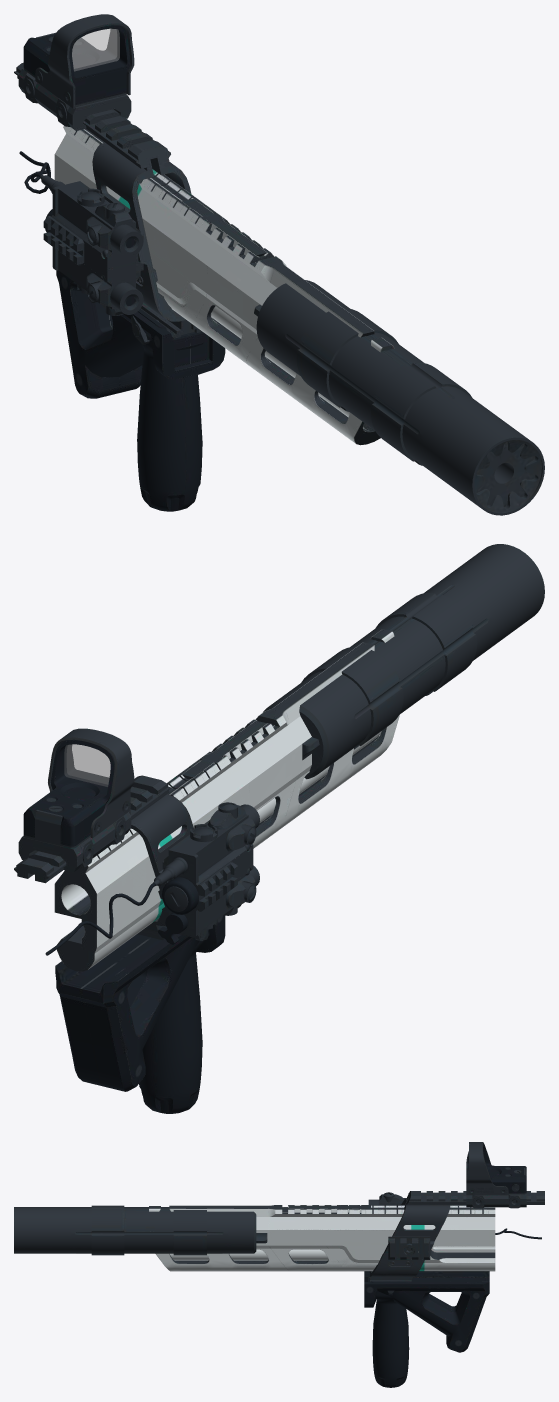
Rendered from Revolver.glb.
3 renders of one model, top to bottom at view 1: azimuth 30°, elevation 25°; view 2: azimuth 150°, elevation 25°; view 3: azimuth 270°, elevation 25°, orthographic. The views are drawn at different scales.
Visible parts, largest first — view 1: SM_Silencer, SM_Revolver_Barrel_Extended, SM_Laser, SM_Scope_Small, SM_Grip_Angled_Short, SM_Grip_Vertical, SM_Revolver_Barrel_Default, SM_Revolver_Rail, SM_Revolver_Barrel_Short; view 2: SM_Silencer, SM_Revolver_Barrel_Extended, SM_Revolver_Barrel_Default, SM_Grip_Angled_Short, SM_Scope_Small, SM_Laser, SM_Grip_Vertical, SM_Revolver_Rail, SM_Revolver_Barrel_Short; view 3: SM_Silencer, SM_Revolver_Barrel_Extended, SM_Revolver_Barrel_Default, SM_Grip_Angled_Short, SM_Revolver_Rail, SM_Grip_Vertical, SM_Scope_Small, SM_Revolver_Barrel_Short, SM_Laser.
Boxes of the visible parts, x1,y1,x2,y2 form: SM_Silencer: (254, 280, 544, 515); SM_Revolver_Barrel_Extended: (54, 127, 394, 445); SM_Laser: (19, 151, 143, 315); SM_Scope_Small: (18, 14, 134, 130); SM_Grip_Angled_Short: (56, 270, 225, 398); SM_Grip_Vertical: (131, 309, 203, 511); SM_Revolver_Barrel_Default: (54, 126, 281, 365); SM_Revolver_Rail: (14, 62, 202, 338); SM_Revolver_Barrel_Short: (54, 128, 217, 317); SM_Silencer: (263, 544, 544, 779); SM_Revolver_Barrel_Extended: (54, 629, 399, 969); SM_Revolver_Barrel_Default: (54, 710, 300, 971); SM_Grip_Angled_Short: (55, 915, 225, 1091); SM_Scope_Small: (18, 728, 134, 872); SM_Laser: (45, 802, 259, 955); SM_Grip_Vertical: (139, 929, 209, 1113); SM_Revolver_Rail: (14, 775, 193, 940); SM_Revolver_Barrel_Short: (55, 754, 249, 967); SM_Silencer: (14, 1205, 267, 1255); SM_Revolver_Barrel_Extended: (149, 1205, 495, 1271); SM_Revolver_Barrel_Default: (268, 1205, 495, 1271); SM_Grip_Angled_Short: (364, 1271, 489, 1352); SM_Revolver_Rail: (370, 1191, 544, 1281); SM_Grip_Vertical: (369, 1271, 410, 1387); SM_Scope_Small: (466, 1142, 526, 1208); SM_Revolver_Barrel_Short: (326, 1205, 495, 1271); SM_Laser: (368, 1192, 541, 1239).
Bounding box in the file's own units: 5.67 × 18.73 × 37.94.
14 materials, 12 textured.
